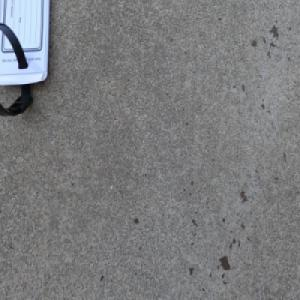LuggageTag: (0, 0, 52, 118)
